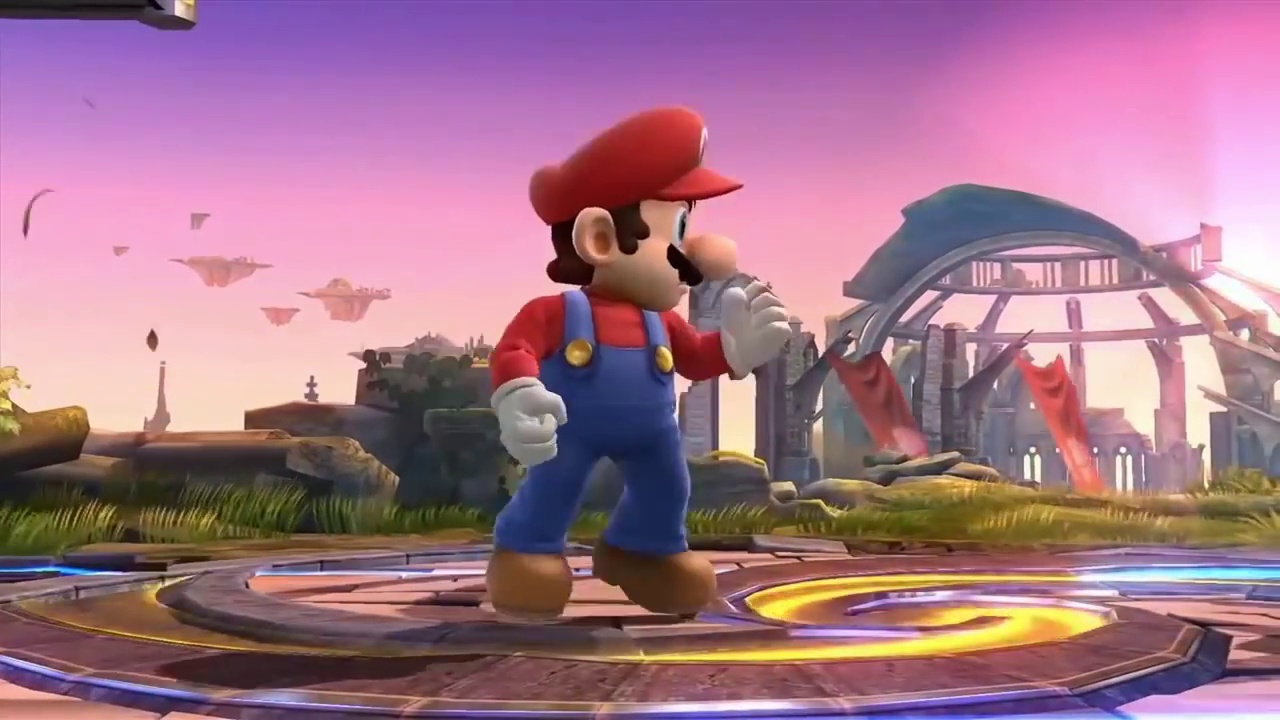Mario: (490, 105, 792, 619)
